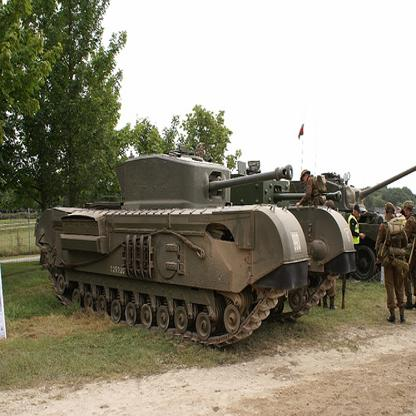Tank: (31, 150, 361, 356)
